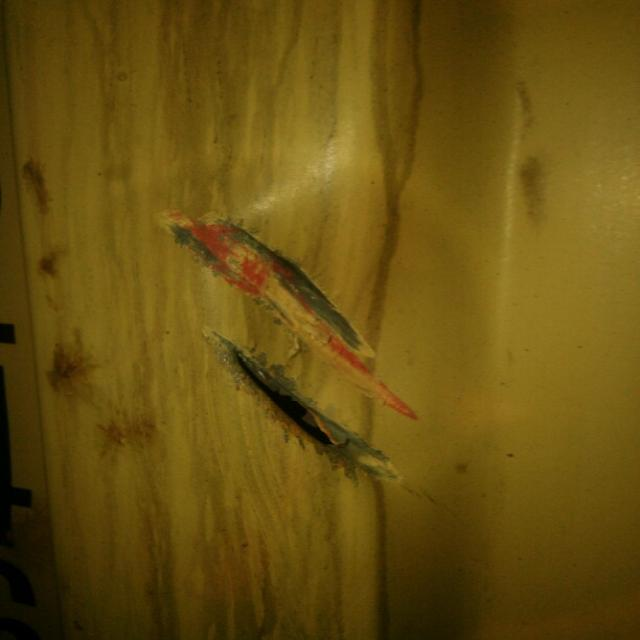dent: (177, 175, 444, 510)
